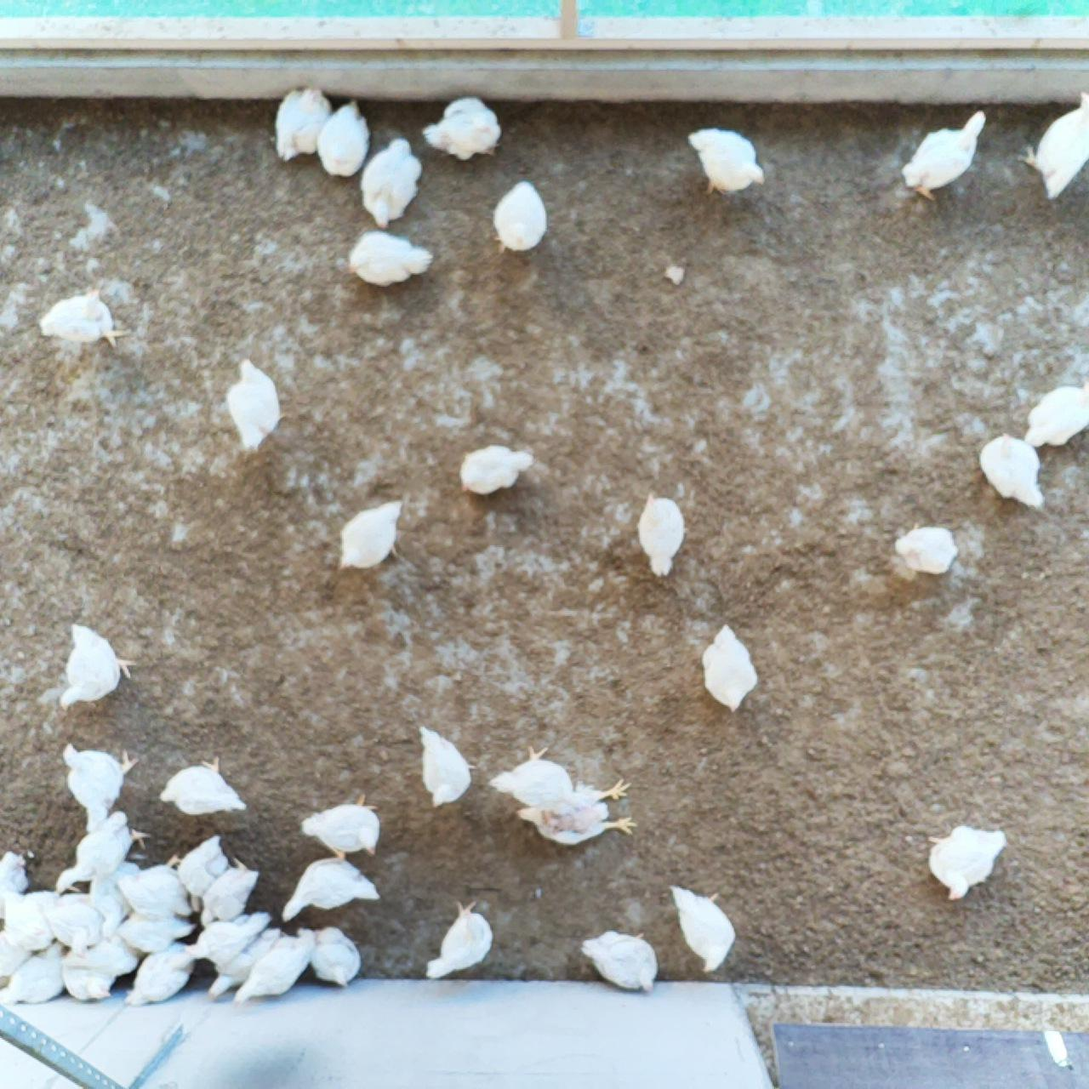chicken: (513, 774, 638, 854), (897, 106, 999, 198), (1014, 84, 1089, 204), (54, 808, 150, 899), (59, 737, 142, 835), (662, 877, 740, 976), (677, 120, 772, 201), (919, 820, 1008, 906), (57, 620, 138, 714), (278, 857, 383, 923), (223, 352, 289, 454), (233, 924, 314, 1006), (37, 284, 129, 356), (298, 788, 386, 862), (151, 753, 250, 818), (977, 426, 1049, 515), (422, 898, 496, 984), (487, 744, 583, 810), (579, 927, 664, 1000), (359, 136, 424, 231), (418, 91, 504, 162), (204, 924, 282, 1002), (699, 619, 761, 717), (344, 227, 436, 292), (484, 177, 554, 259), (414, 723, 478, 811), (633, 485, 690, 582), (181, 909, 273, 966), (114, 854, 194, 919), (272, 85, 336, 166), (1022, 379, 1089, 454), (454, 440, 537, 500), (315, 97, 374, 181), (123, 942, 194, 1010), (0, 941, 70, 1007), (87, 857, 143, 939), (173, 833, 230, 913), (889, 518, 965, 577), (200, 854, 261, 926), (0, 889, 61, 949), (116, 909, 195, 955), (311, 924, 366, 989), (61, 957, 117, 1004), (0, 847, 34, 920), (86, 931, 137, 976), (0, 929, 31, 980)
